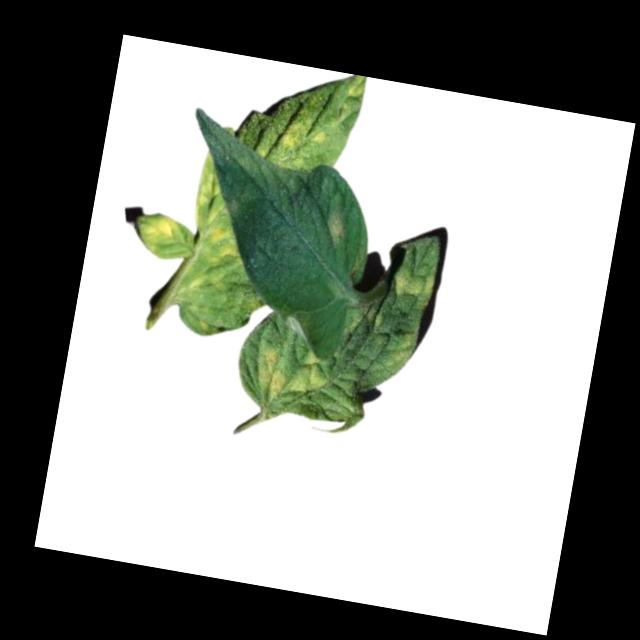Leaf_Mold: (178, 154, 255, 305), (249, 338, 332, 410), (276, 110, 328, 158), (132, 211, 182, 253), (390, 266, 435, 300), (389, 329, 415, 369), (340, 73, 368, 102), (324, 215, 347, 248)
